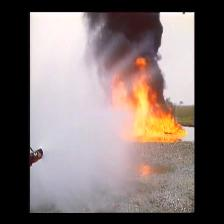fire: (114, 92, 177, 146)
